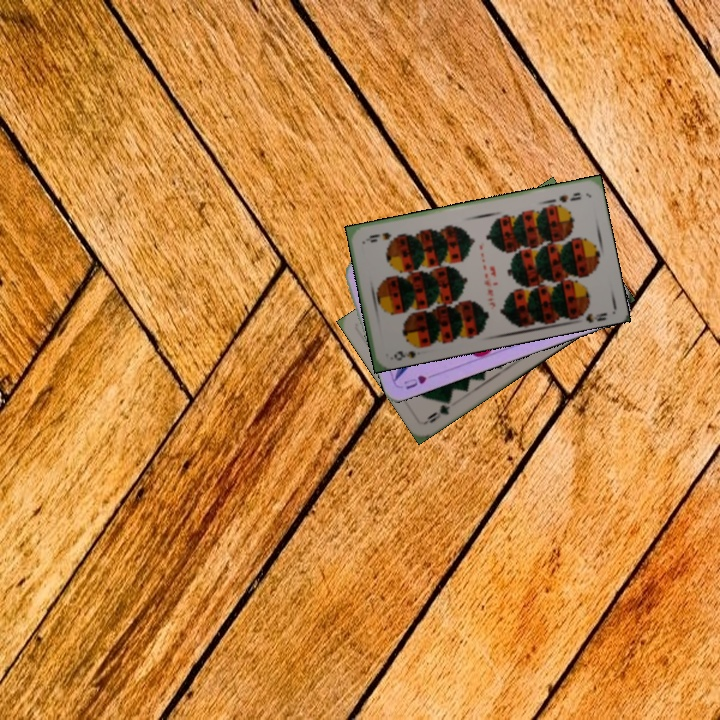G9: (423, 395, 454, 426)
HU: (400, 370, 437, 392)
S9: (390, 339, 426, 363), (547, 188, 584, 208)
